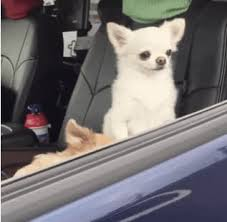chihuahua: (99, 18, 187, 144)
